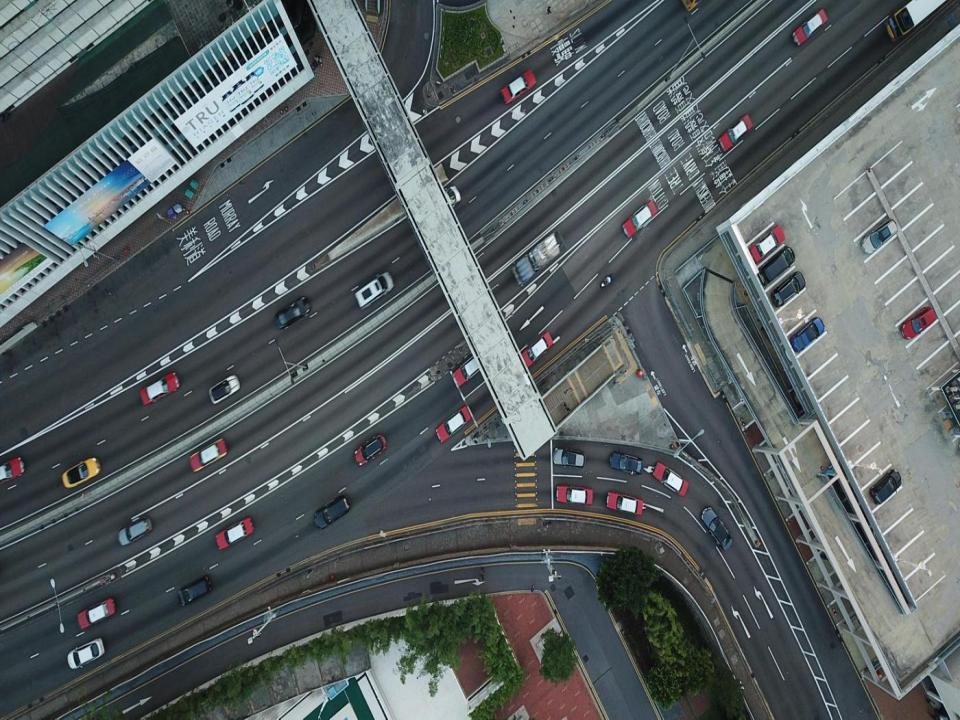bus: (884, 0, 950, 42)
car: (746, 224, 785, 268), (756, 246, 795, 286), (354, 271, 394, 309), (700, 506, 732, 550), (861, 218, 898, 256), (622, 199, 658, 238), (718, 114, 753, 154), (518, 331, 554, 369), (452, 347, 487, 386), (500, 71, 539, 106), (66, 637, 106, 671), (436, 405, 471, 443), (771, 270, 806, 308), (792, 8, 827, 46), (140, 372, 180, 405), (314, 494, 350, 530), (189, 437, 227, 471), (754, 276, 782, 322), (215, 516, 254, 549), (652, 462, 689, 496), (77, 596, 116, 628), (62, 457, 102, 488), (789, 317, 824, 352), (276, 296, 311, 330), (901, 305, 936, 339), (869, 469, 902, 505), (117, 514, 152, 546), (792, 374, 828, 404), (178, 575, 211, 606), (355, 433, 386, 465), (428, 186, 461, 216), (606, 490, 643, 515), (208, 375, 240, 403), (556, 483, 593, 507), (609, 451, 644, 475), (0, 457, 24, 487), (554, 447, 586, 469), (786, 364, 813, 384)
truck: (513, 228, 566, 287)
